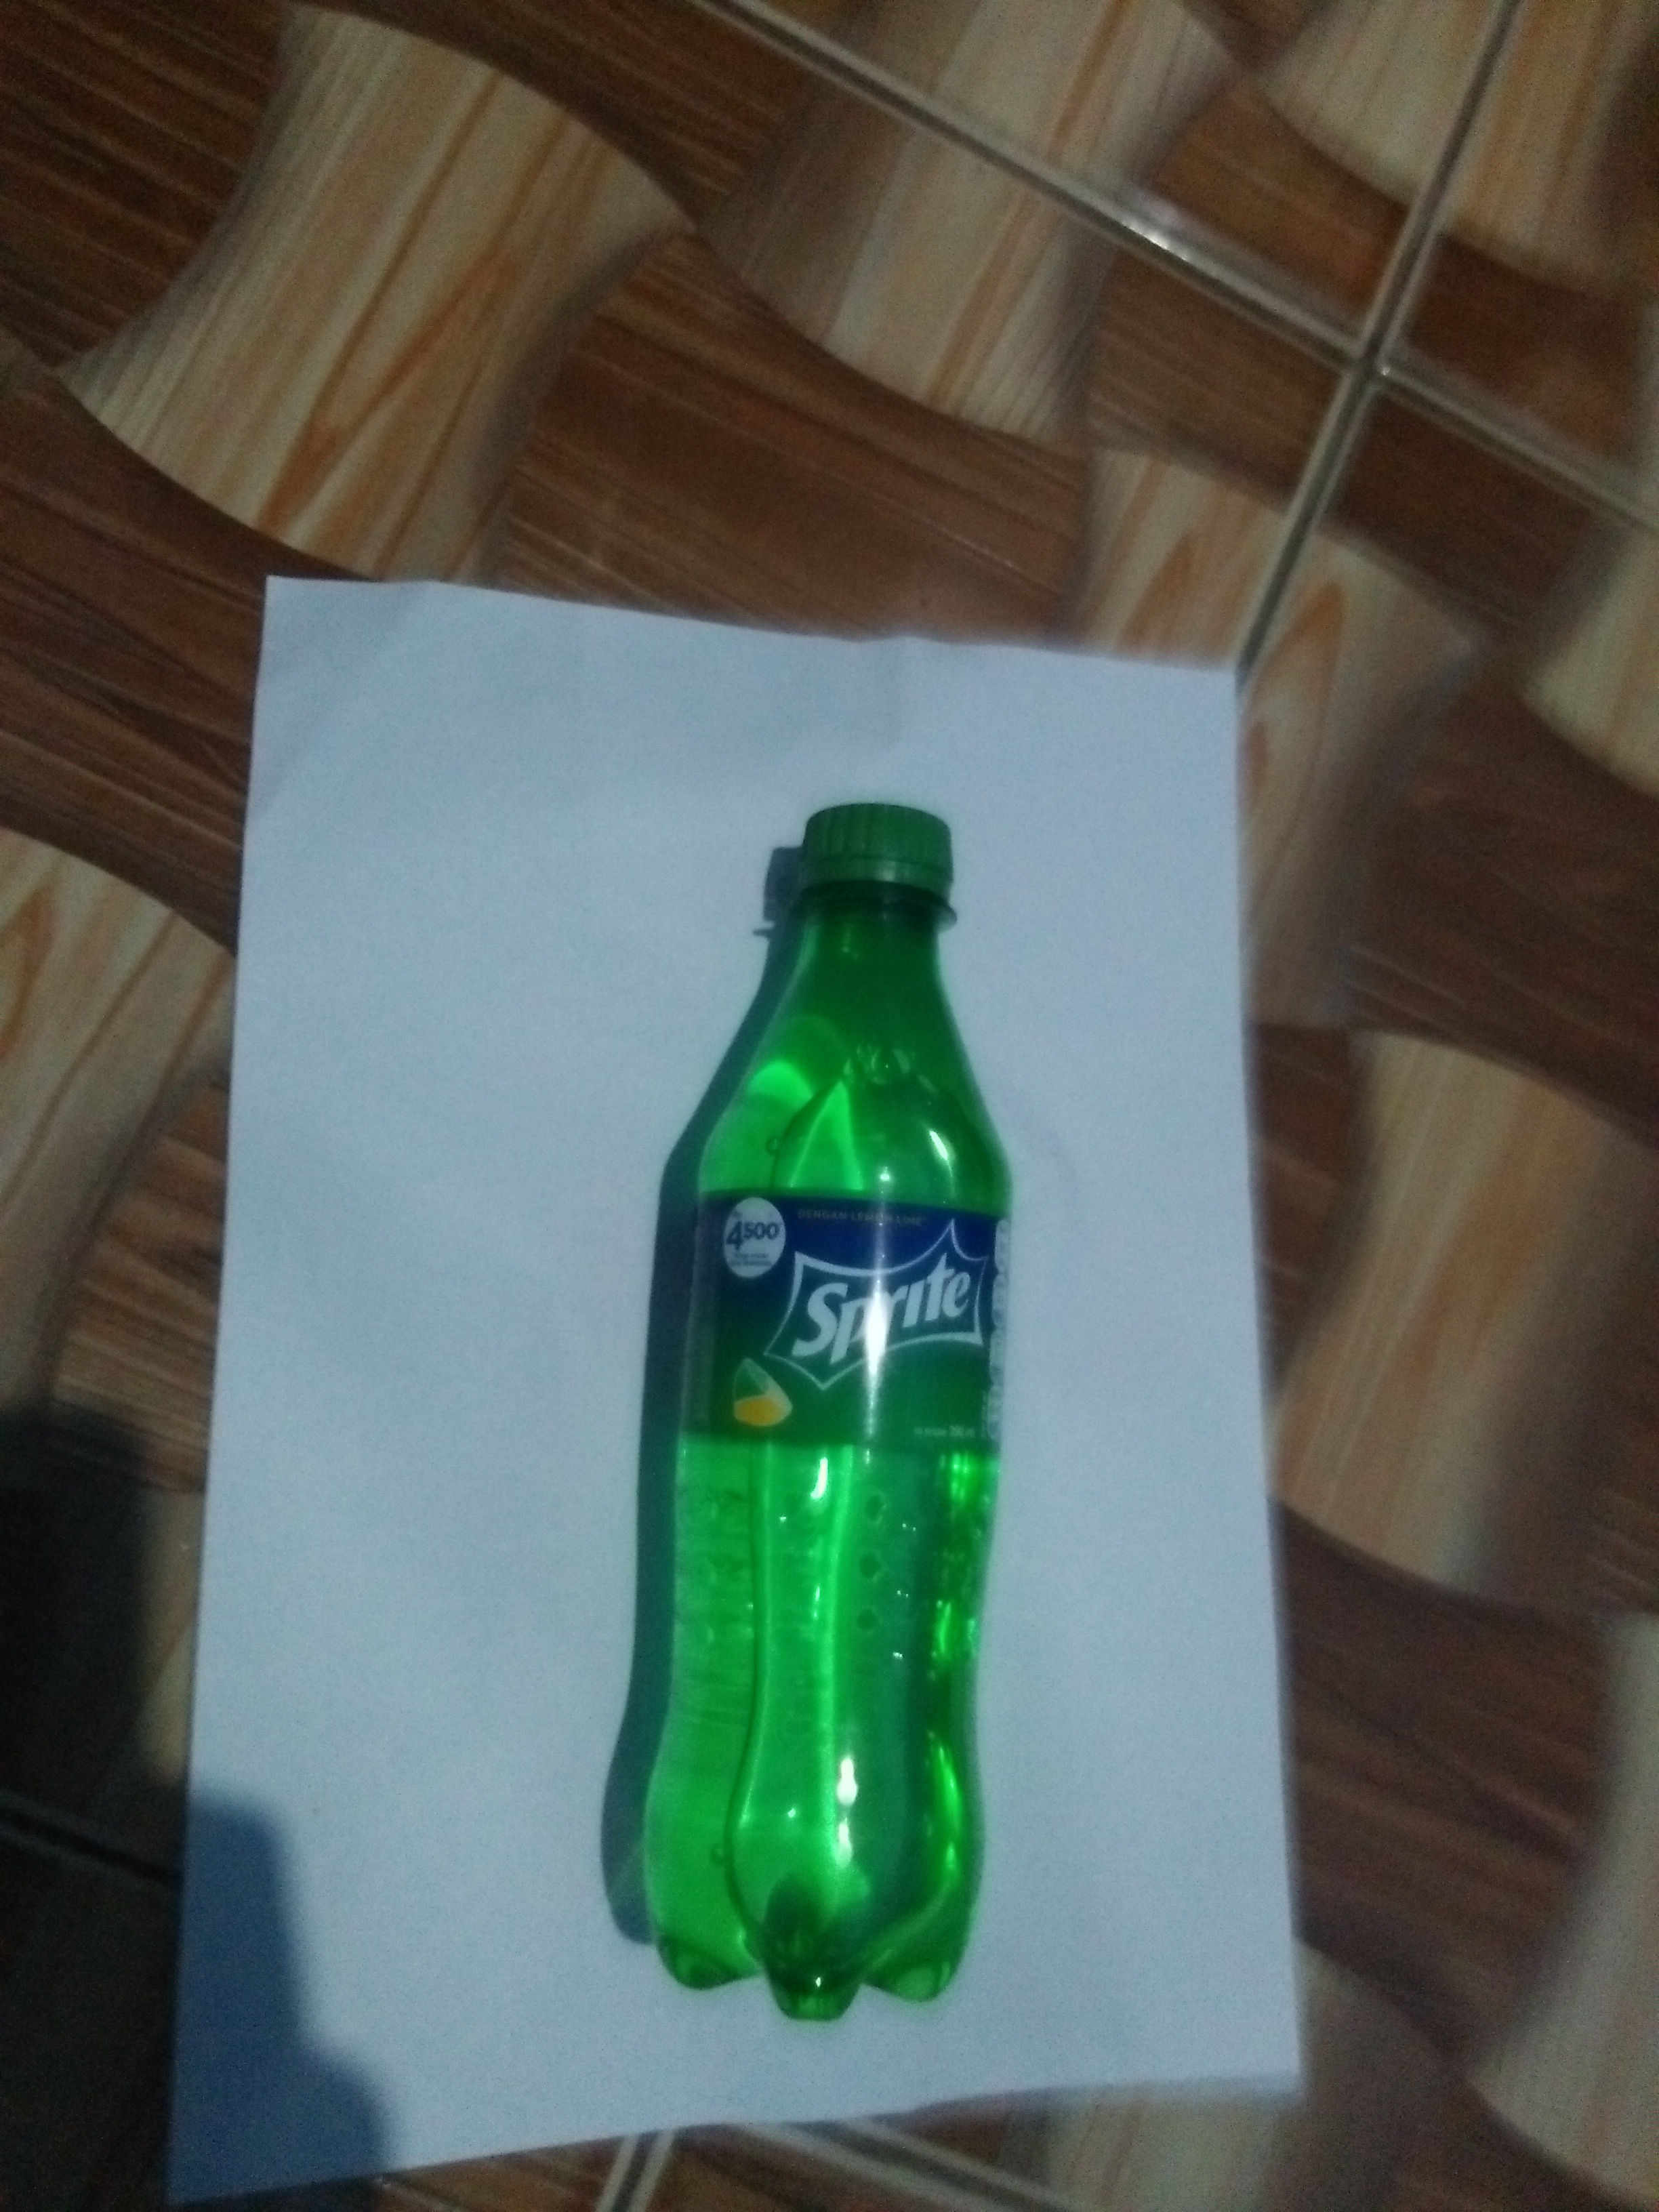Sprite: (613, 786, 1011, 2026)
